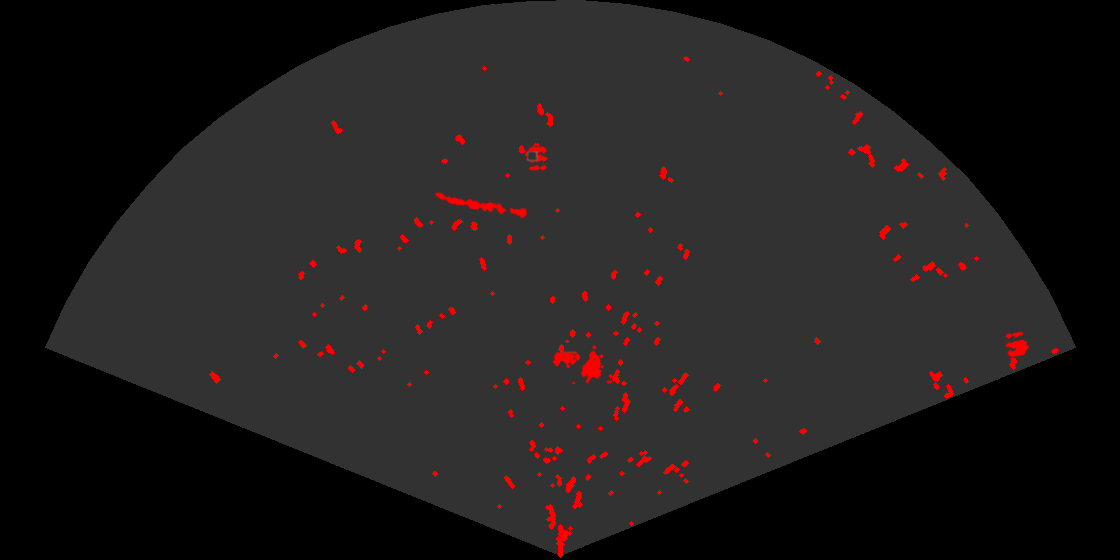ball: (1003, 330, 1030, 359), (523, 145, 550, 172)
cage: (551, 338, 612, 384)
chain: (433, 190, 529, 220)
